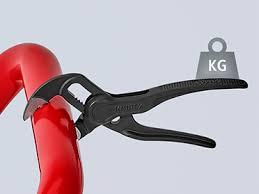pliers: (21, 71, 248, 148)
